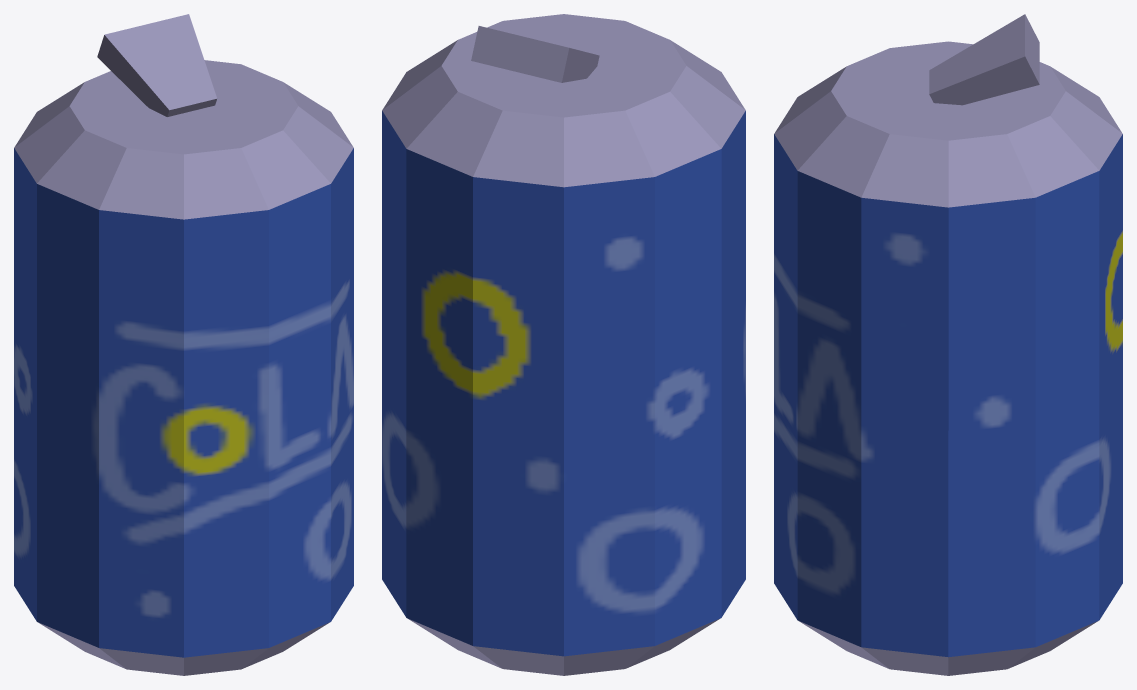
Rendered from Soda.fbx.
3 views of the same model, side by side, from view 1: azimuth 30°, elevation 25°; view 2: azimuth 150°, elevation 25°; view 3: azimuth 270°, elevation 25° (orthographic). The views are drawn at different scales.
Visible parts, largest first — view 1: SodaModel; view 2: SodaModel; view 3: SodaModel.
Boxes of the visible parts, x1,y1,x2,y2 form: SodaModel: [14, 14, 353, 675]; SodaModel: [382, 14, 745, 675]; SodaModel: [774, 14, 1122, 675].
Size of the model in its own units: 29.52 by 55.22 by 29.52.
